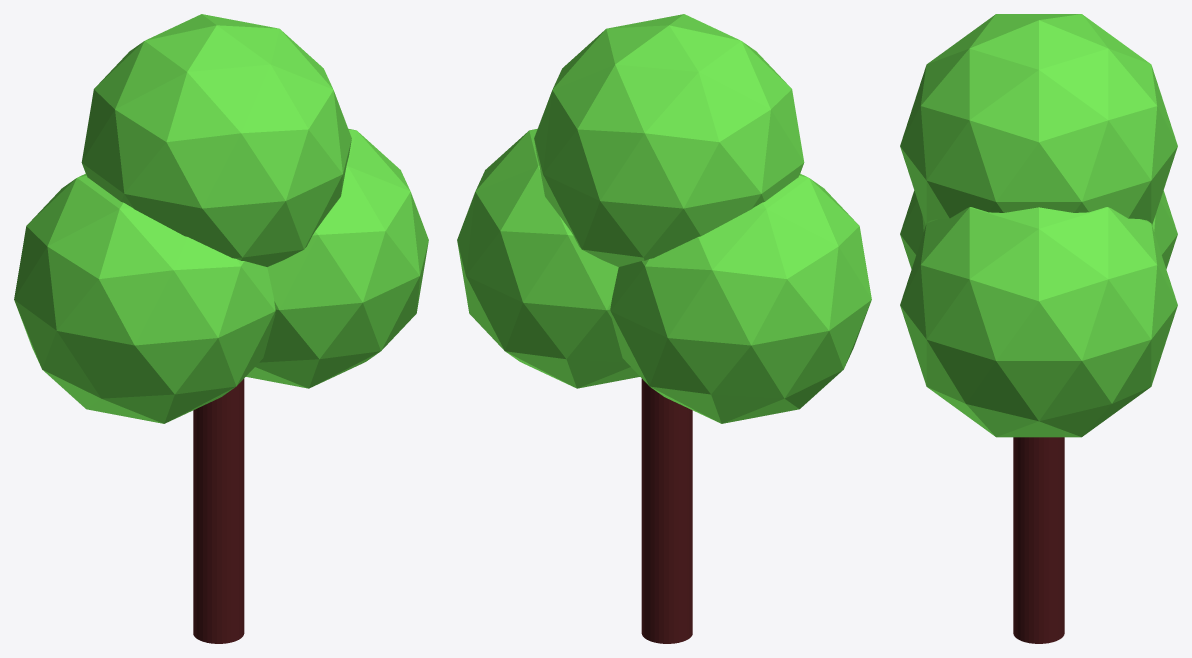
The picture shows the model from 3 angles, left to right: view 1: azimuth 30°, elevation 25°; view 2: azimuth 150°, elevation 25°; view 3: azimuth 270°, elevation 25°; orthographic projection.
Visible parts, largest first — view 1: Icosphere.002, Icosphere, Icosphere.001, Cylinder; view 2: Icosphere.002, Icosphere, Icosphere.001, Cylinder; view 3: Icosphere.001, Icosphere.002, Cylinder, Icosphere.
Boxes of the visible parts, x1,y1,x2,y2 form: Icosphere.002: [81, 14, 351, 266]; Icosphere: [14, 173, 275, 423]; Icosphere.001: [246, 129, 428, 388]; Cylinder: [193, 378, 244, 643]; Icosphere.002: [534, 14, 804, 266]; Icosphere: [610, 173, 871, 423]; Icosphere.001: [457, 129, 639, 388]; Cylinder: [641, 378, 692, 643]; Icosphere.001: [900, 207, 1177, 437]; Icosphere.002: [900, 14, 1177, 225]; Cylinder: [1013, 437, 1064, 643]; Icosphere: [900, 190, 1177, 268].
Size of the model in its own units: 311 by 486 by 200.
